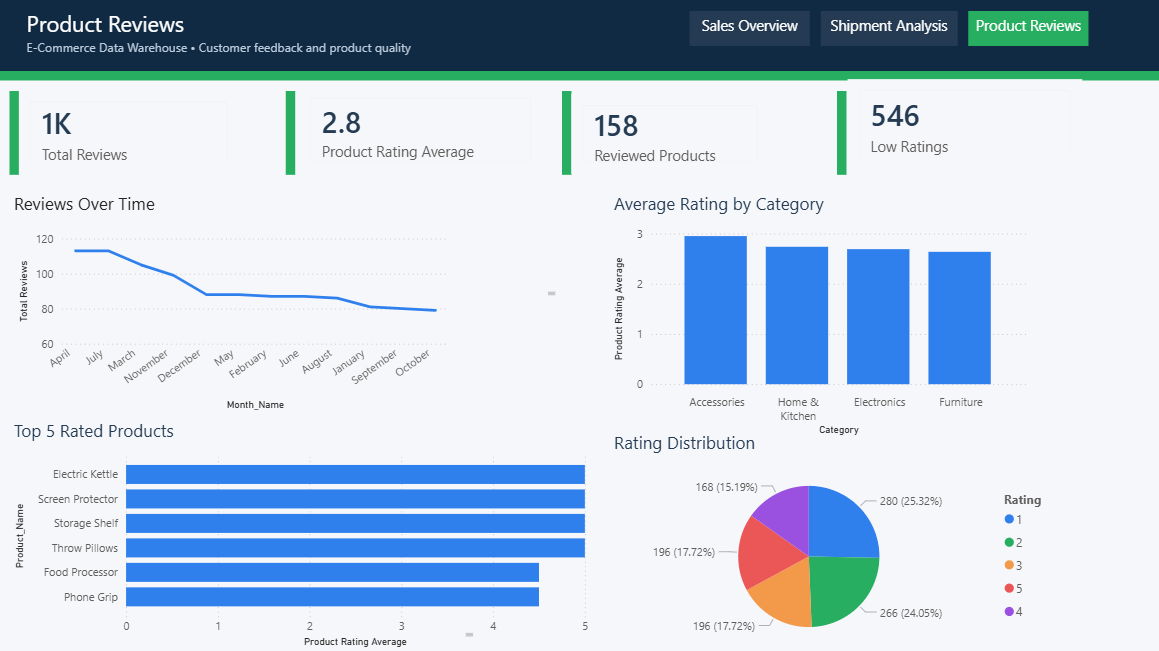

What the dashboard file says about the page in this screenshot:
{"tool":"powerbi","page":{"name":"Product Reviews","canvas":[1280,720],"ordinal":2},"visuals":[{"type":"textbox","box":[0,0,1280,86],"z":0},{"type":"textbox","box":[0,82,1280,4],"z":1000},{"type":"textbox","box":[27.4,9.6,561.2,45.3],"z":2000},{"type":"textbox","box":[27.4,42.5,701.2,39.8],"z":3000},{"type":"textbox","box":[760,16,132,38],"z":4000},{"type":"textbox","box":[904,16,150,38],"z":5000},{"type":"textbox","box":[1066,16,132,38],"z":6000},{"type":"textbox","box":[13.7,103.7,6,92],"z":7000,"group":"g1"},{"type":"textbox","box":[316.7,103.7,6,92],"z":8000,"group":"g1"},{"type":"textbox","box":[619.7,103.7,6,92],"z":9000,"group":"g1"},{"type":"textbox","box":[922.7,103.7,6,92],"z":10000,"group":"g1"},{"type":"textbox","box":[13.7,209.9,569.5,46.7],"z":11000},{"type":"textbox","box":[48,320,570,14],"z":12000},{"type":"textbox","box":[672.4,209.9,499.5,37],"z":14000},{"type":"textbox","box":[13.7,459.7,569.5,38.4],"z":17000},{"type":"textbox","box":[672.4,472,499.5,38.4],"z":20000},{"type":"textbox","box":[28,695,500,14],"z":22000},{"type":"cardVisual","fields":{"Data":["Fact_Review.Total Reviews"]},"box":[18.6,98.7,251.1,101.5],"z":23000,"group":"g1"},{"type":"cardVisual","fields":{"Data":["Fact_Review.Product Rating Average"]},"box":[326,94.6,277.2,105.7],"z":24000,"group":"g1"},{"type":"cardVisual","fields":{"Data":["Fact_Review.Reviewed Products"]},"box":[625.2,102.9,227.8,97.4],"z":25000,"group":"g1"},{"type":"cardVisual","fields":{"Data":["Fact_Review.Low Ratings"]},"box":[928.4,86.4,267.6,109.8],"z":26000,"group":"g1"},{"type":"group","id":"g1","title":"Group 1","box":[13.7,86.4,1182.9,113.9],"z":26001},{"type":"lineChart","fields":{"Category":["DimDate.Month_Name"],"Y":["Fact_Review.Total Reviews"]},"box":[19.2,252.5,481.6,207.2],"z":26002},{"type":"clusteredColumnChart","fields":{"Category":["DimProduct.Category"],"Y":["Fact_Review.Product Rating Average"]},"box":[672.4,247,462.4,240.1],"z":26003},{"type":"clusteredBarChart","fields":{"Category":["DimProduct.Product_Name"],"Y":["Fact_Review.Product Rating Average"]},"box":[15.1,491.3,639.5,229.2],"z":26004},{"type":"pieChart","fields":{"Category":["Fact_Review.Rating"],"Y":["Fact_Review.Total Reviews"]},"box":[672,510,499,210],"z":26005},{"type":"actionButton","box":[760.2,16.5,131.7,39.8],"z":26006},{"type":"actionButton","box":[904.3,16.5,149.6,39.8],"z":26007}]}

Visuals, with their boxes in screenshot pixels (x1, y1, x2, y2), scaled from the page's 1280x720 canvas onto the 1159x651 screenshot:
textbox: <region>0, 0, 1158, 78</region>
textbox: <region>0, 74, 1158, 78</region>
textbox: <region>25, 9, 533, 50</region>
textbox: <region>25, 38, 660, 74</region>
textbox: <region>688, 14, 808, 49</region>
textbox: <region>819, 14, 954, 49</region>
textbox: <region>965, 14, 1085, 49</region>
textbox: <region>12, 94, 18, 177</region>
textbox: <region>287, 94, 292, 177</region>
textbox: <region>561, 94, 567, 177</region>
textbox: <region>835, 94, 841, 177</region>
textbox: <region>12, 190, 528, 232</region>
textbox: <region>43, 289, 560, 302</region>
textbox: <region>609, 190, 1061, 223</region>
textbox: <region>12, 416, 528, 450</region>
textbox: <region>609, 427, 1061, 461</region>
textbox: <region>25, 628, 478, 641</region>
cardVisual - Fact_Review.Total Reviews: <region>17, 89, 244, 181</region>
cardVisual - Fact_Review.Product Rating Average: <region>295, 86, 546, 181</region>
cardVisual - Fact_Review.Reviewed Products: <region>566, 93, 772, 181</region>
cardVisual - Fact_Review.Low Ratings: <region>841, 78, 1083, 177</region>
"Group 1" group: <region>12, 78, 1083, 181</region>
lineChart - DimDate.Month_Name x Fact_Review.Total Reviews: <region>17, 228, 453, 416</region>
clusteredColumnChart - DimProduct.Category x Fact_Review.Product Rating Average: <region>609, 223, 1028, 440</region>
clusteredBarChart - DimProduct.Product_Name x Fact_Review.Product Rating Average: <region>14, 444, 593, 650</region>
pieChart - Fact_Review.Rating x Fact_Review.Total Reviews: <region>608, 461, 1060, 650</region>
actionButton: <region>688, 15, 808, 51</region>
actionButton: <region>819, 15, 954, 51</region>
